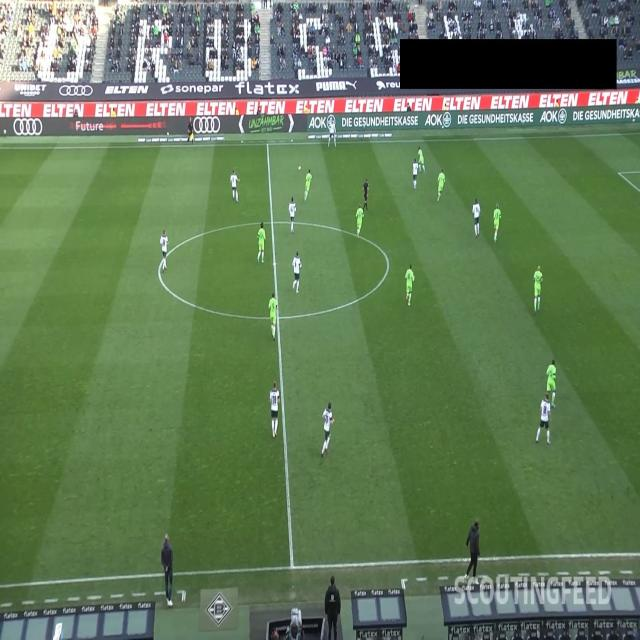ball: (298, 165, 302, 171)
